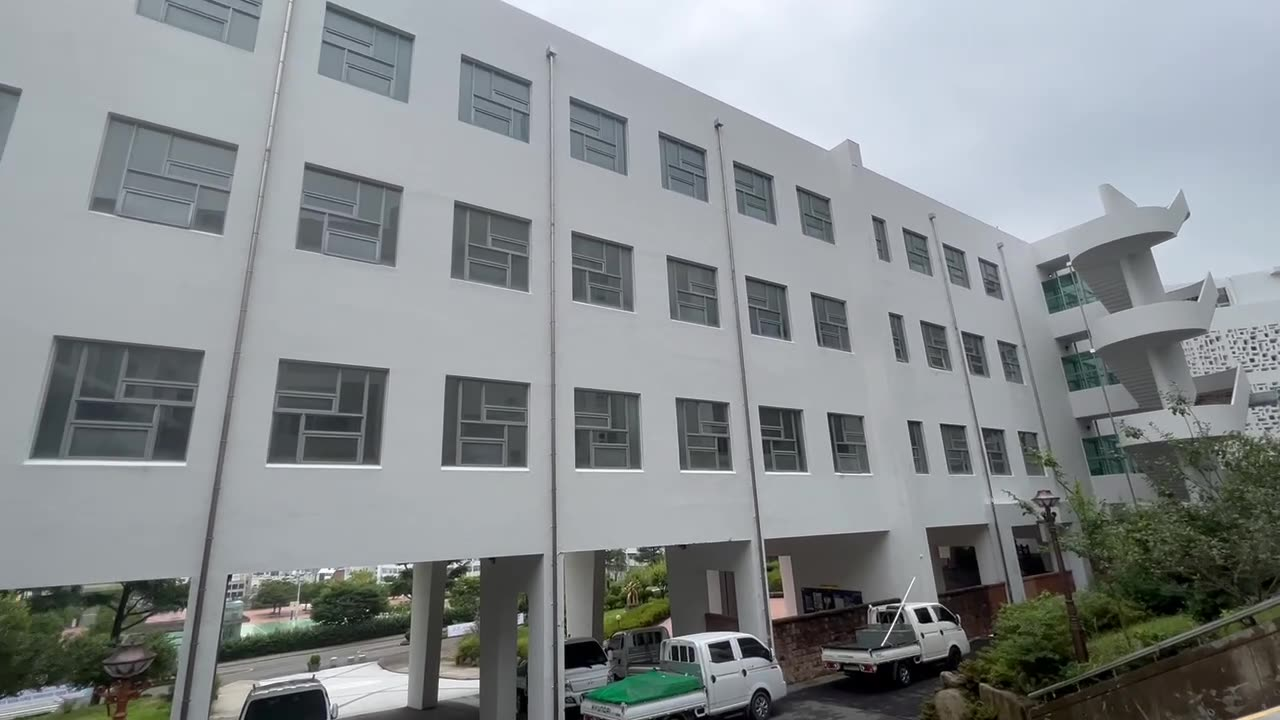medium: (44, 33, 1031, 510)
